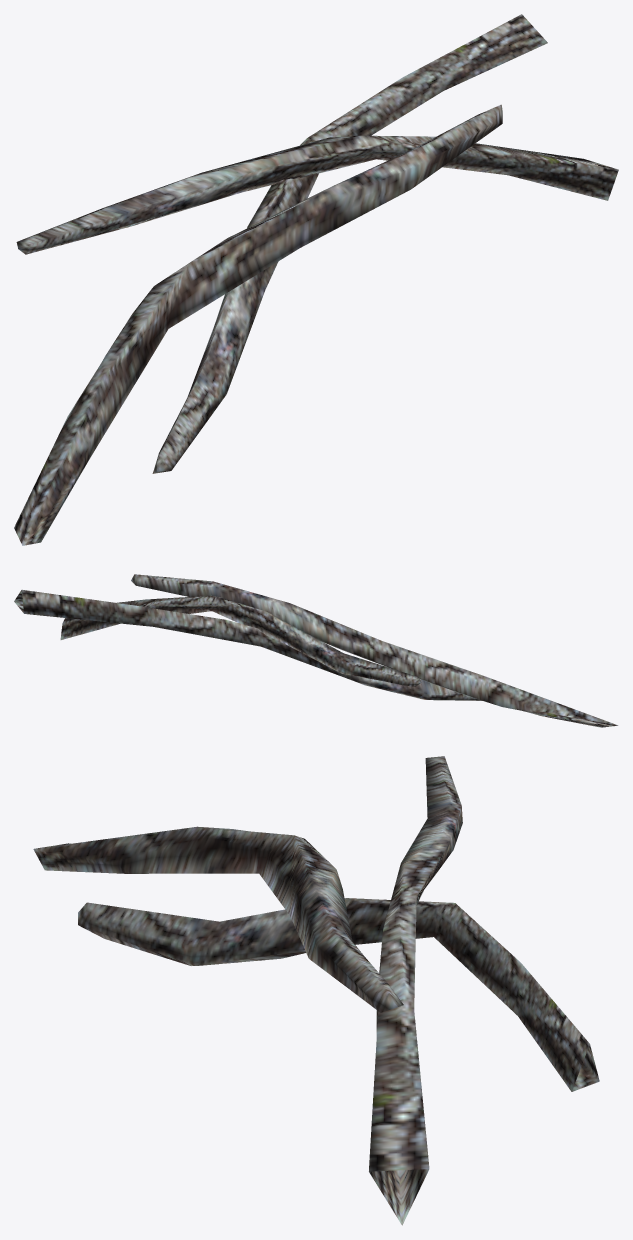
Rendered from Branches_Medium_01.obj.
3 renders of one model, top to bottom at view 1: azimuth 30°, elevation 25°; view 2: azimuth 150°, elevation 25°; view 3: azimuth 270°, elevation 25°, orthographic. The views are drawn at different scales.
Visible parts, largest first — view 1: polySurface27; view 2: polySurface27; view 3: polySurface27.
Boxes of the visible parts, x1,y1,x2,y2 form: polySurface27: [14, 14, 618, 545]; polySurface27: [14, 574, 618, 727]; polySurface27: [33, 756, 599, 1225].
Size of the model in its own units: 33.13 by 8.72 by 17.28.
Materials: 1 (1 with a texture image).
